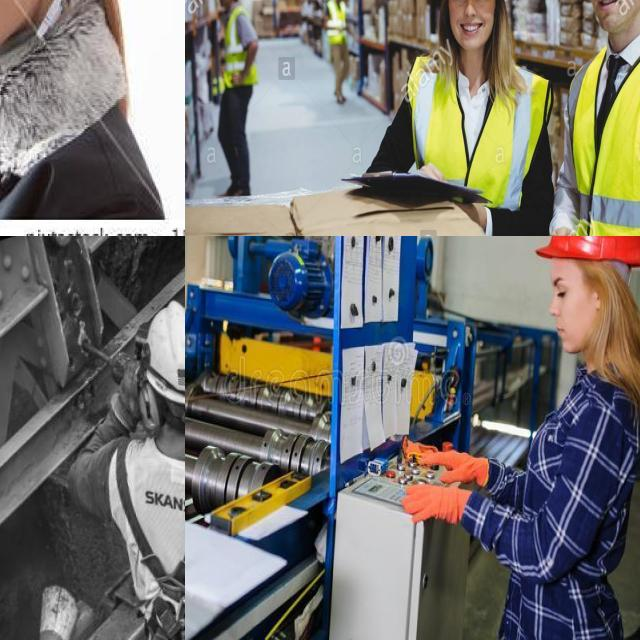Harness: (115, 440, 185, 640)
No_Ear-Protection: (547, 236, 640, 378)
No_Glasses: (449, 0, 495, 6)
face_nomask: (446, 0, 499, 54), (581, 0, 640, 32)
person: (397, 0, 555, 236), (542, 0, 640, 236), (210, 0, 259, 190), (323, 0, 354, 102)
vest: (411, 48, 556, 236), (549, 35, 640, 236), (222, 10, 257, 87), (324, 1, 357, 48)
